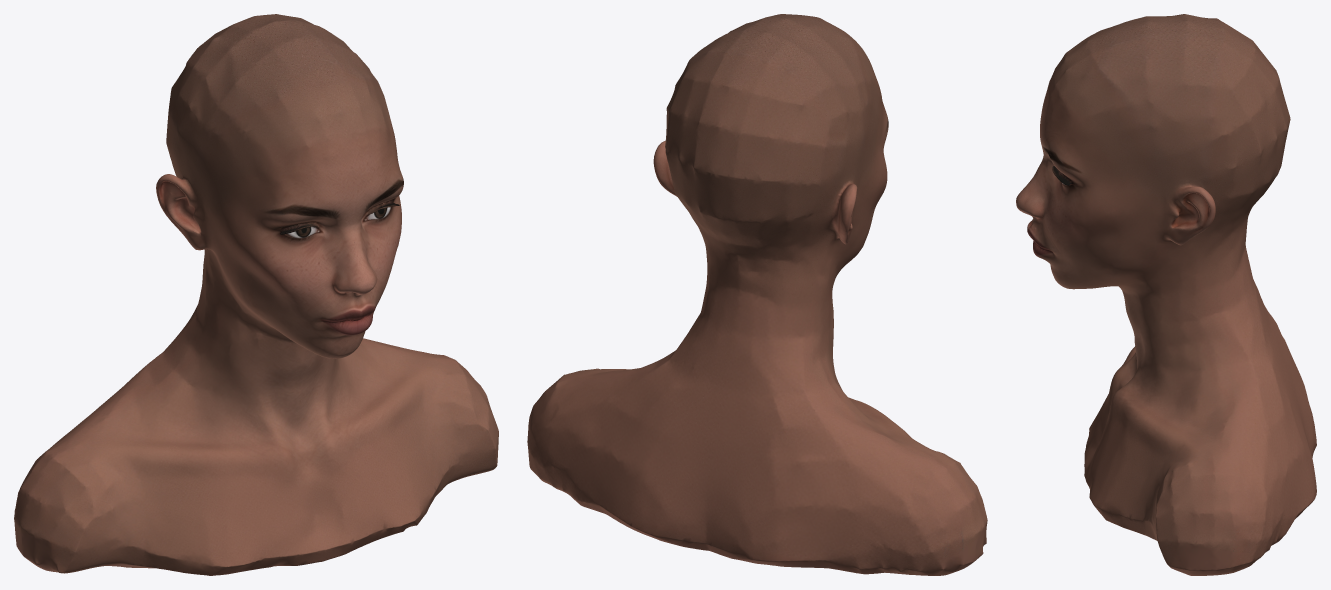
File: rosto_6.glb
3 views of the same model, side by side, from view 1: azimuth 30°, elevation 25°; view 2: azimuth 150°, elevation 25°; view 3: azimuth 270°, elevation 25° (orthographic). The views are drawn at different scales.
Size of the model in its own units: 1.82 by 1.9 by 1.11.
1 material, 1 textured.
